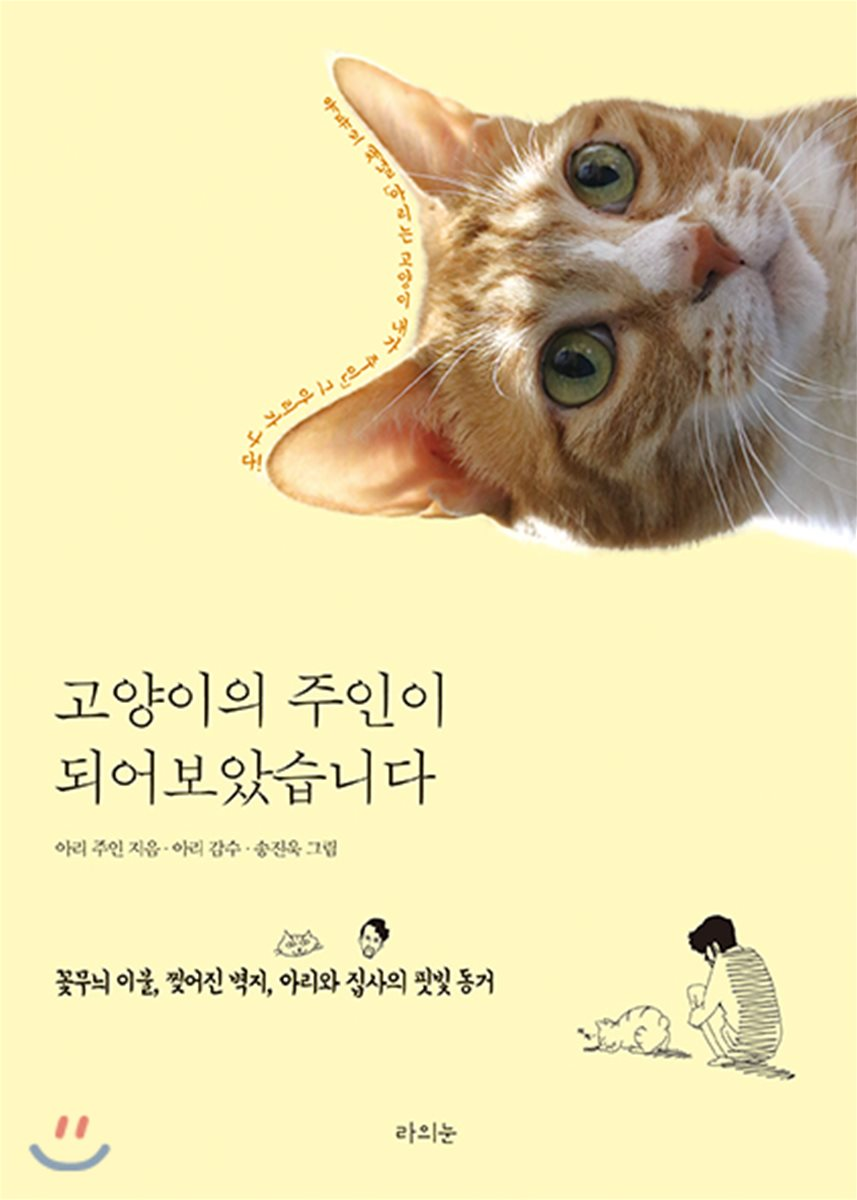cat: (225, 37, 857, 563)
cat-face: (258, 39, 857, 555)
